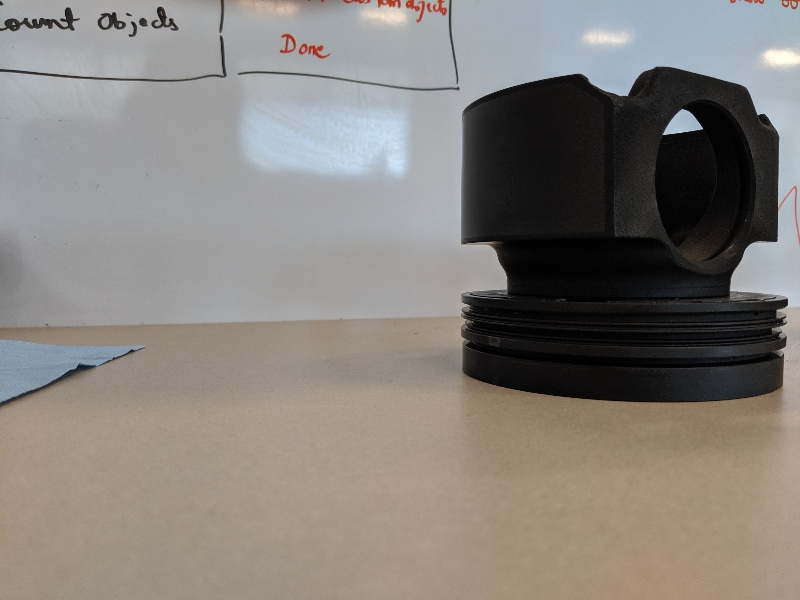piston: (453, 59, 794, 412)
